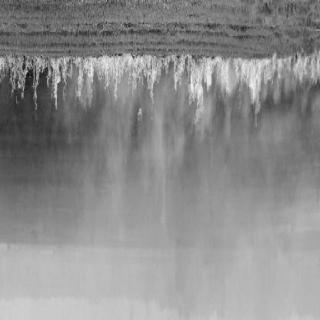Fire: (3, 54, 317, 117)
